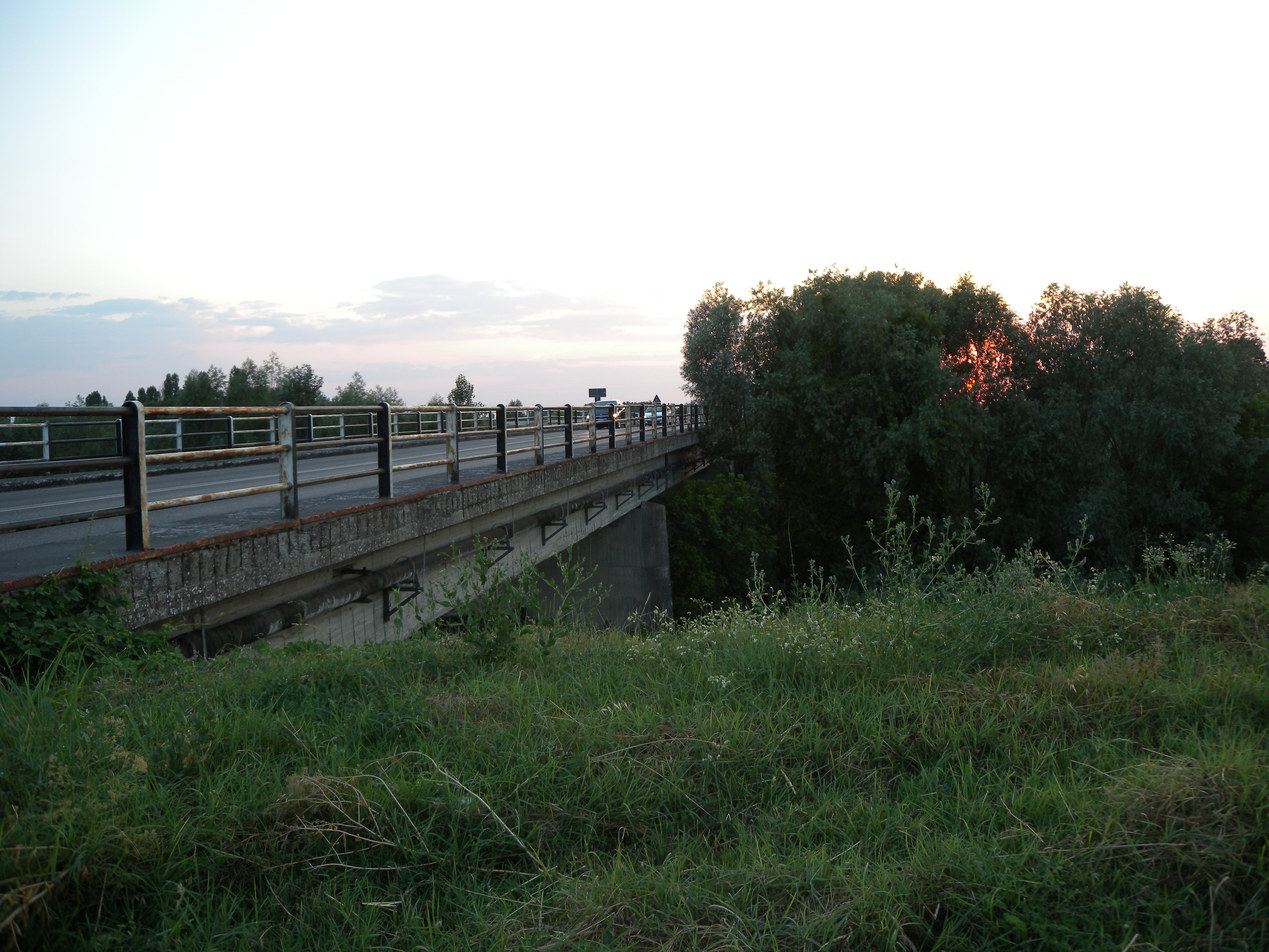Spalling: (72, 450, 625, 647), (292, 496, 610, 654)
